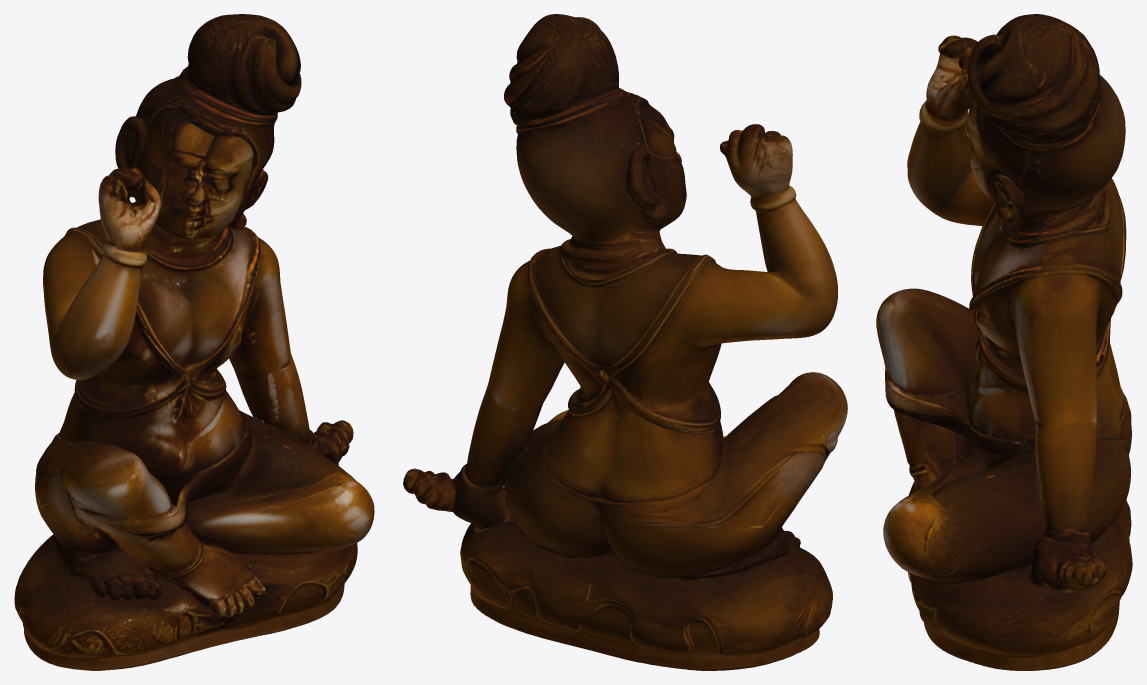
The picture shows the model from 3 angles, left to right: view 1: azimuth 30°, elevation 25°; view 2: azimuth 150°, elevation 25°; view 3: azimuth 270°, elevation 25°; orthographic projection. The views are drawn at different scales.
Visible parts, largest first — view 1: textured_mesh; view 2: textured_mesh; view 3: textured_mesh.
Part boxes in pixels (x1,y1,x2,y2): textured_mesh: (14, 14, 374, 670); textured_mesh: (403, 14, 847, 670); textured_mesh: (876, 14, 1132, 670).
Bounding box in the file's own units: 1.34 × 1.99 × 0.7635.
1 material, 1 textured.
